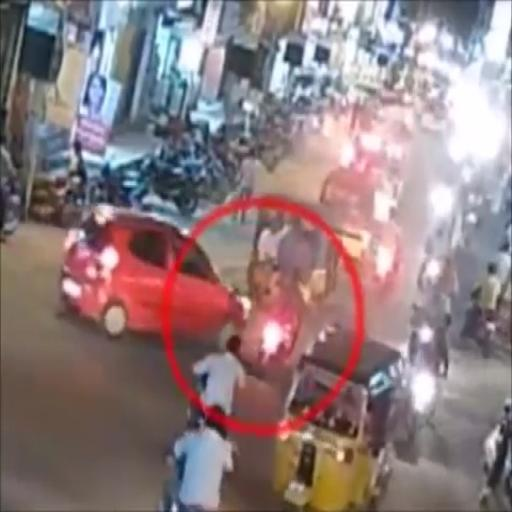小汽车: (55, 206, 252, 342), (271, 331, 405, 512), (253, 197, 337, 316)
自行车: (254, 263, 302, 369), (193, 335, 242, 436), (458, 262, 500, 356)
